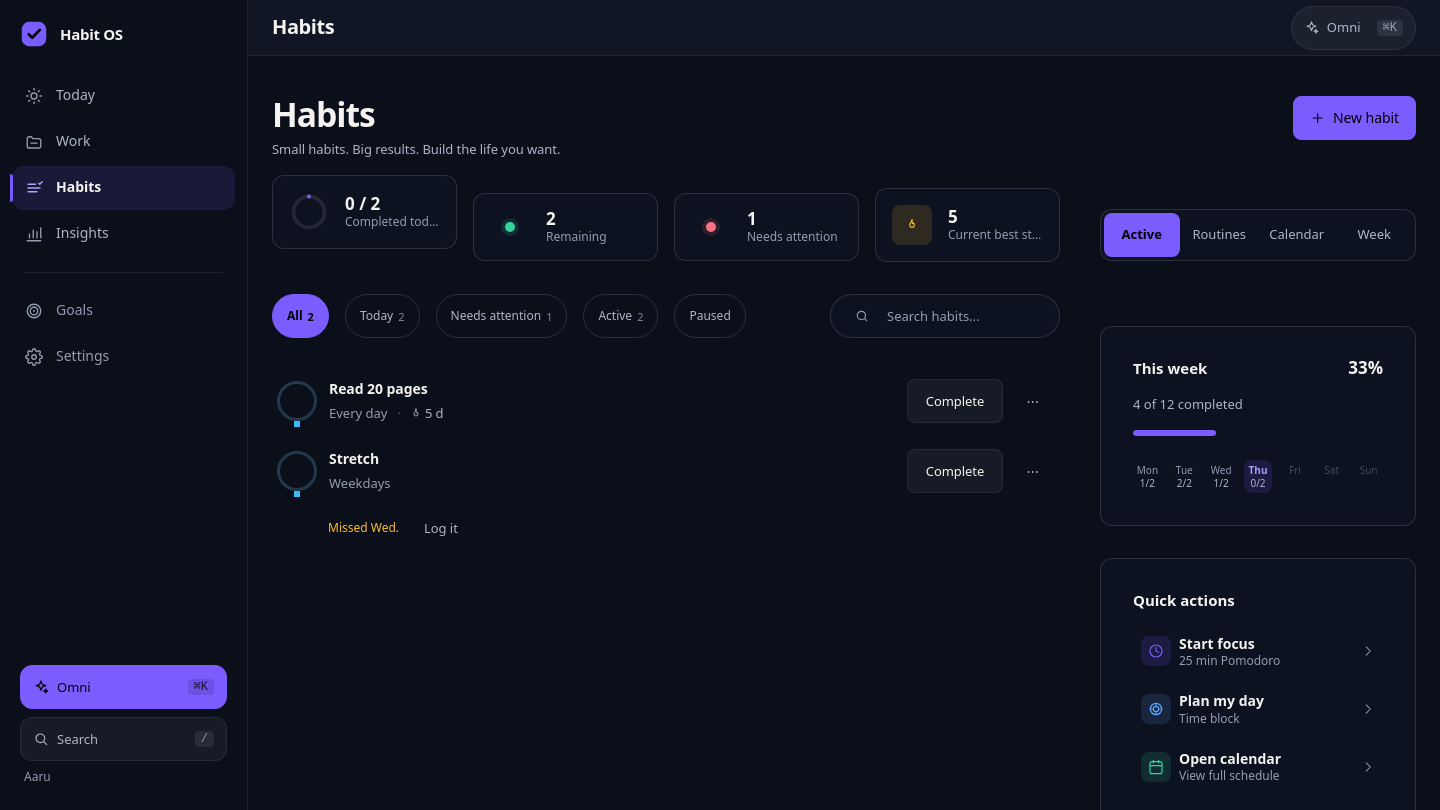
Test: HabitObject structural smoke (Habits screen) › more button opens the actions sheet (actions group exposed)
Click the button named "More actions for" at x=1033, y=401, box [1011,379,1055,423]
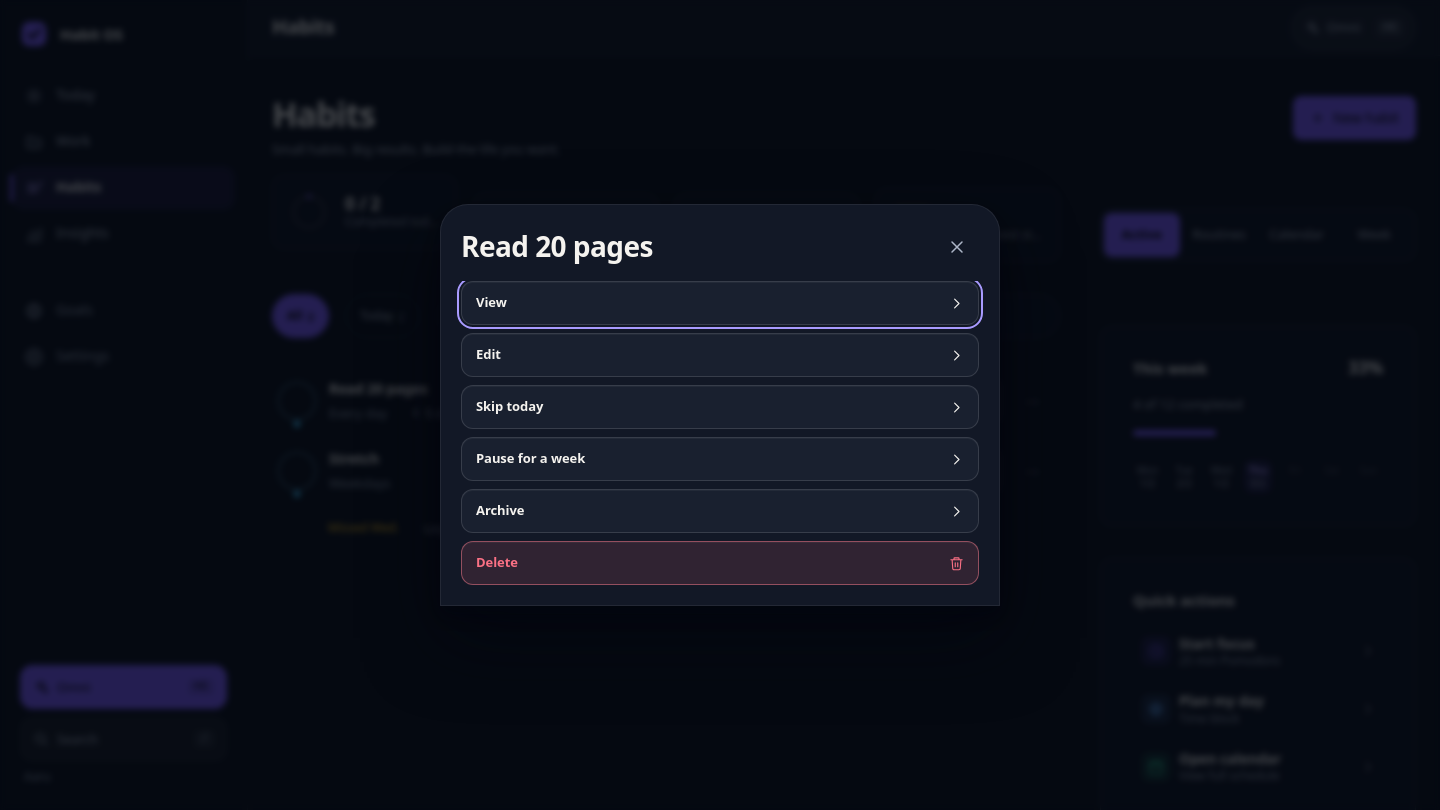
Now the element named "Actions for" is shown, box [461,281,979,585]
